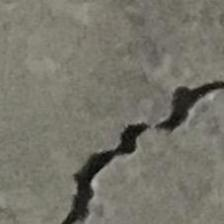Crack: (30, 42, 224, 222)
